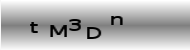3: (67, 18, 82, 31)
D: (85, 26, 102, 40)
M: (48, 23, 68, 38)
n: (109, 15, 124, 26)
t: (28, 21, 40, 34)
